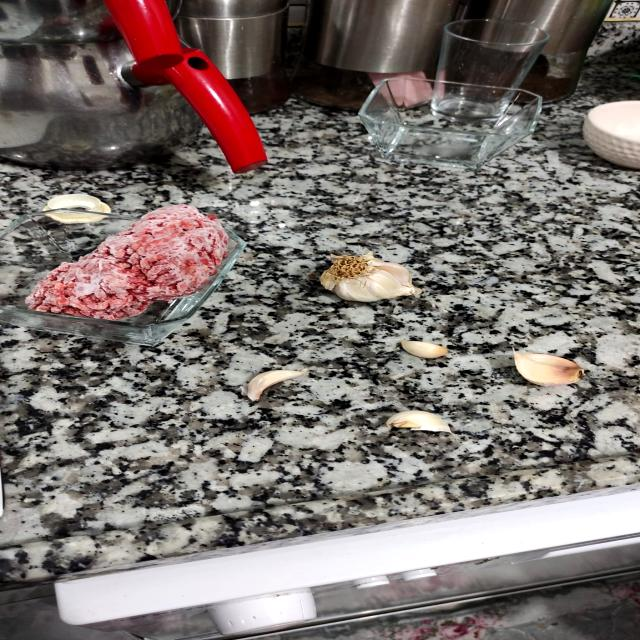garlic: (310, 243, 436, 306), (502, 342, 604, 392), (370, 398, 472, 444), (222, 362, 328, 404), (379, 331, 461, 364)
ground meat: (15, 191, 244, 328)
